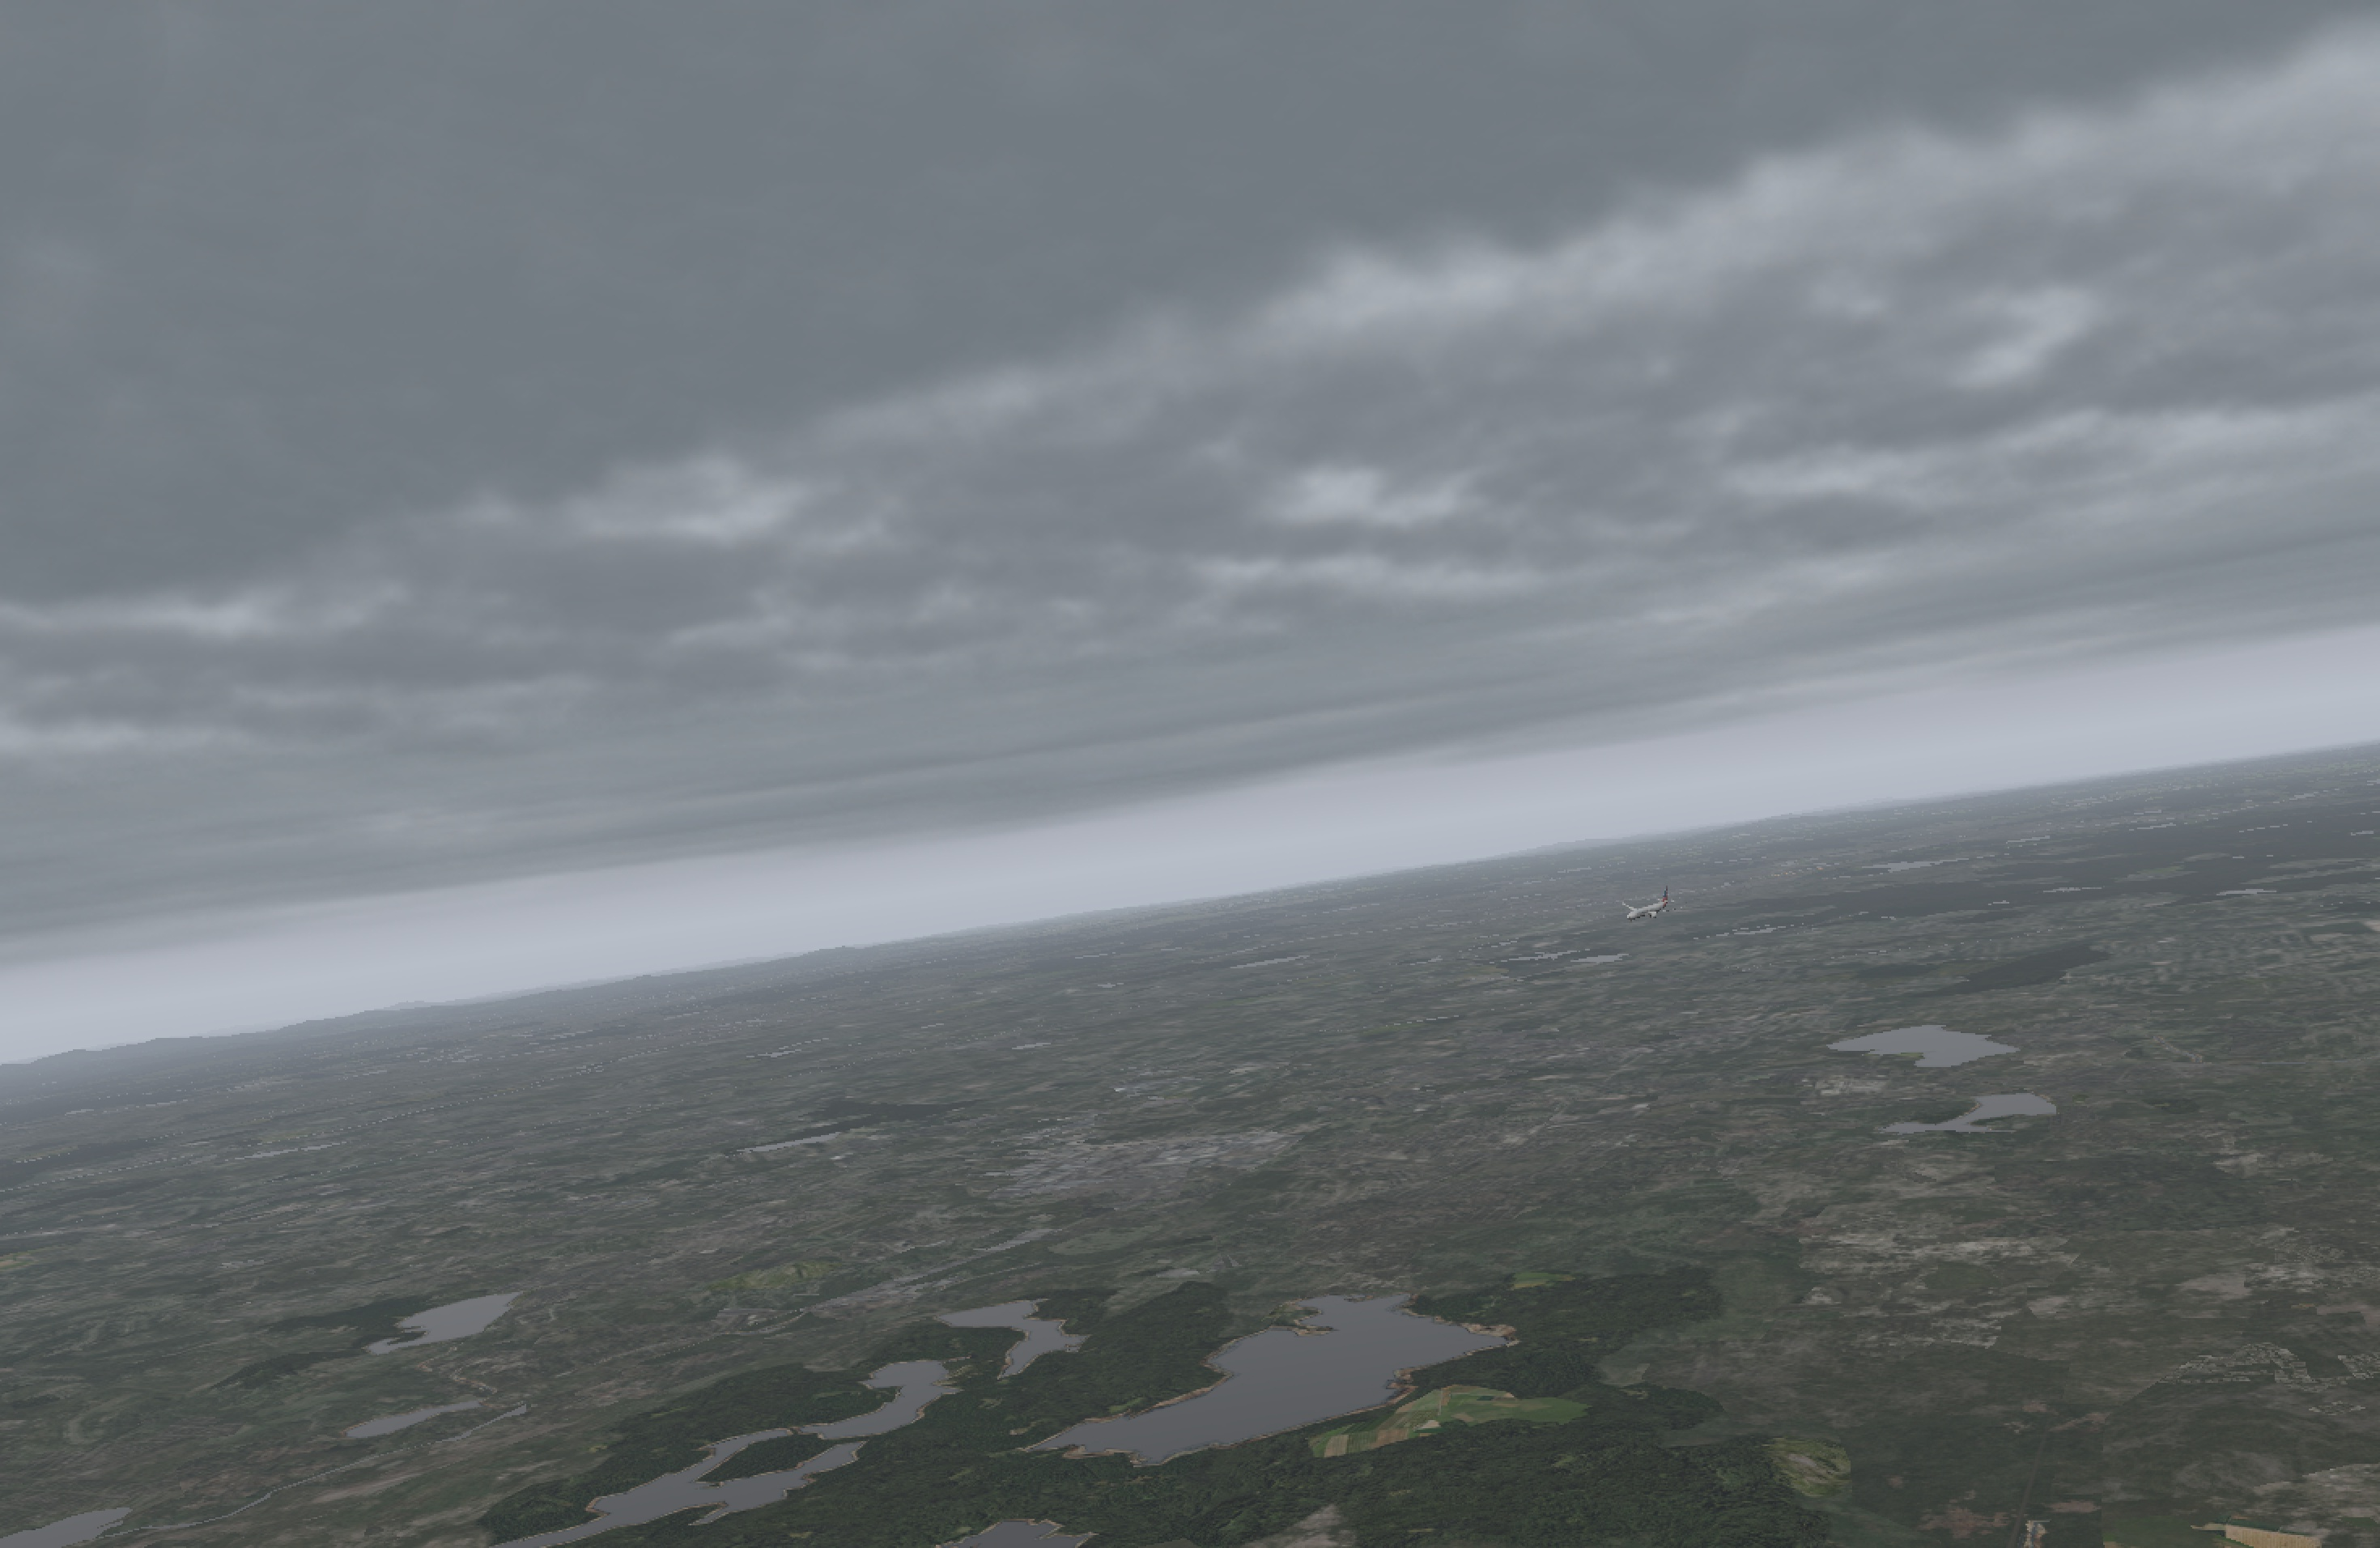aircraft: (1606, 897, 1688, 927)
